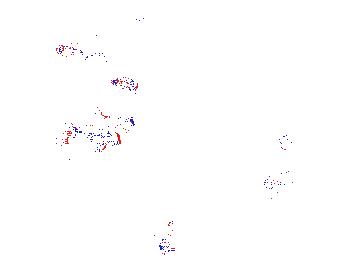X-ray fish: (260, 168, 310, 195), (159, 215, 178, 257), (278, 132, 299, 152)
red belly glassfish: (55, 42, 106, 60), (108, 74, 141, 93)
redtail glassfish: (67, 115, 136, 150)
